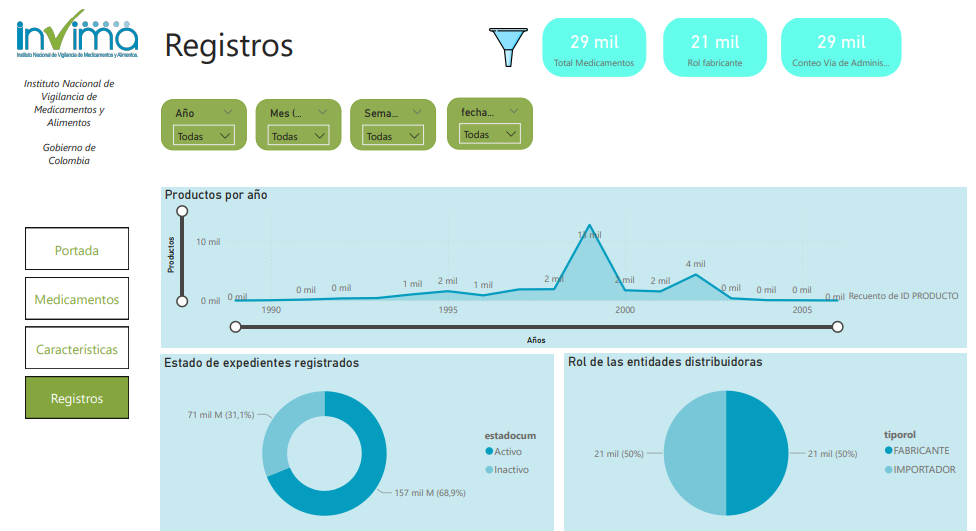

This screenshot's page, from the dashboard's own definition file:
{"tool":"powerbi","page":{"name":"Registros","canvas":[1280,720],"ordinal":3},"visuals":[{"type":"shape","box":[0,0,169.8,720],"z":0},{"type":"shape","box":[158.3,117.9,1121.4,110.7],"z":1000},{"type":"image","box":[0,0,170.2,95.2],"z":2000},{"type":"slicer","fields":{"Values":["Tabla calendario.Año"]},"box":[196,136,114,68],"z":3000},{"type":"slicer","fields":{"Values":["Tabla calendario.Mes (Letra)"]},"box":[322,136,114,68],"z":4000},{"type":"slicer","fields":{"Values":["Tabla calendario.Semana"]},"box":[448,136,114,68],"z":5000},{"type":"card","fields":{"Values":["#Medidas.Cantidad Medicamentos"]},"box":[704,27,138,79],"z":6000},{"type":"card","fields":{"Values":["#Medidas.Rol"]},"box":[865,27,138,79],"z":7000},{"type":"card","fields":{"Values":["#Medidas.Via administracion oral"]},"box":[1022,27,160,79],"z":8000},{"type":"textbox","box":[195.2,27.4,481,85.7],"z":9000},{"type":"textbox","box":[4.8,101.2,136.9,145.2],"z":10000},{"type":"lineChart","title":"Productos por año","fields":{"Category":["Tabla calendario.Fecha.Variación.Jerarquía de fechas.Año"],"Y":["CountNonNull(MEDICAMENTOS.ID PRODUCTO)"]},"box":[195.6,253.3,1073.3,213.3],"z":11000},{"type":"pageNavigator","box":[15,306.7,138.3,256.7],"z":12000},{"type":"slicer","fields":{"Values":["MEDICAMENTOS.fechaexpedicion"]},"box":[576.7,134.4,114.4,68.9],"z":13000},{"type":"donutChart","title":"Estado de expedientes registrados","fields":{"Category":["Estadocum.estadocum","CUM.ID ESTADOCUM"],"Y":["Sum(CUM.expedientecum)"],"Series":["Estadocum.estadocum"]},"box":[195,476.2,523.8,243.8],"z":14000},{"type":"image","box":[626.7,36.7,64.4,60],"z":15000},{"type":"pieChart","title":"Rol de las entidades distribuidoras","fields":{"Y":["#Medidas.Rol"],"Category":["MEDICAMENTOS.tiporol"]},"box":[732.5,475,536.2,245],"z":16000}]}

Visuals, with their boxes on the page's 1280x720 design canvas (x1, y1, x2, y2). These are canvas units, not pixel positions in the 976x531 screenshot, which may show the page scaled, cropped or inside an application window:
shape: region(0, 0, 170, 720)
shape: region(158, 118, 1280, 229)
image: region(0, 0, 170, 95)
slicer - Tabla calendario.Año: region(196, 136, 310, 204)
slicer - Tabla calendario.Mes (Letra): region(322, 136, 436, 204)
slicer - Tabla calendario.Semana: region(448, 136, 562, 204)
card - #Medidas.Cantidad Medicamentos: region(704, 27, 842, 106)
card - #Medidas.Rol: region(865, 27, 1003, 106)
card - #Medidas.Via administracion oral: region(1022, 27, 1182, 106)
textbox: region(195, 27, 676, 113)
textbox: region(5, 101, 142, 246)
"Productos por año" lineChart: region(196, 253, 1269, 467)
pageNavigator: region(15, 307, 153, 563)
slicer - MEDICAMENTOS.fechaexpedicion: region(577, 134, 691, 203)
"Estado de expedientes registrados" donutChart: region(195, 476, 719, 720)
image: region(627, 37, 691, 97)
"Rol de las entidades distribuidoras" pieChart: region(732, 475, 1269, 720)
